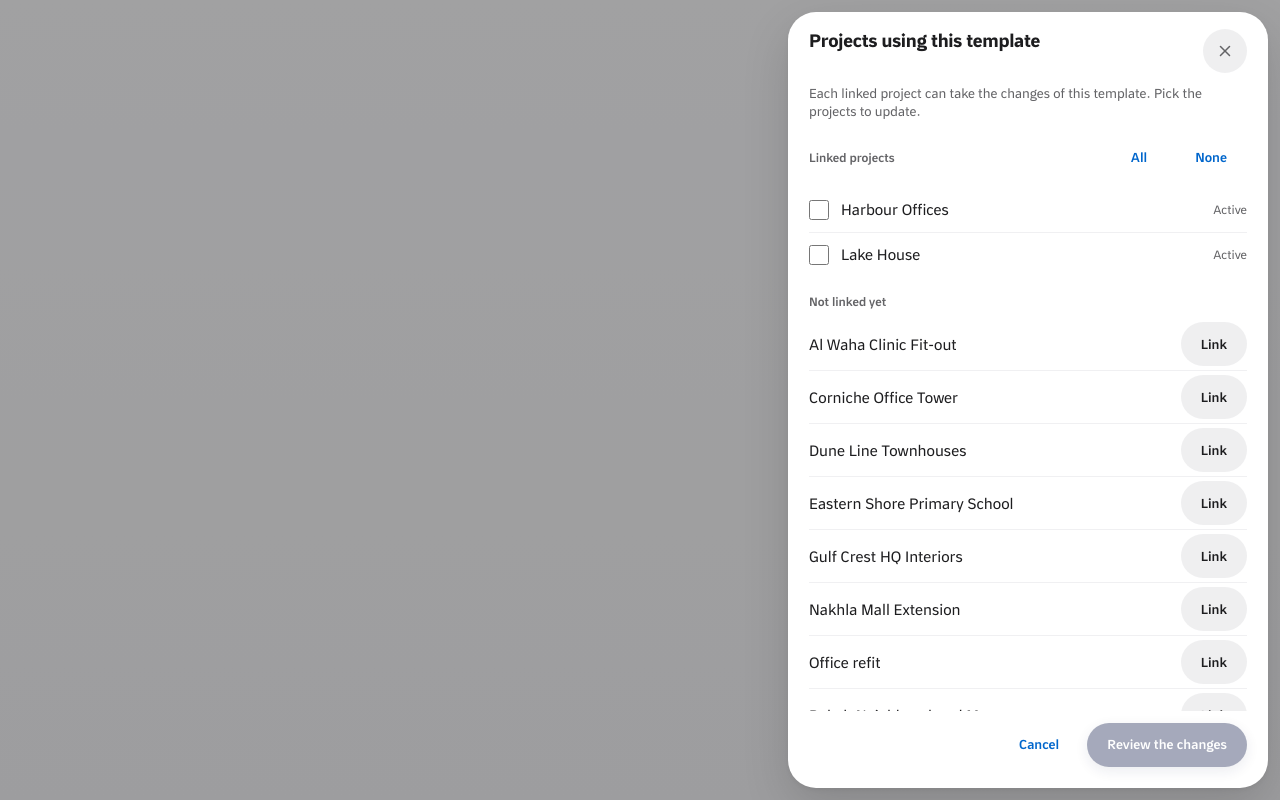
Test: Projects using this template › ticks every linked project with All, clears them with None, and needs one pick before the review
Expected: the element "Linked projects" is shown, x1=809 y1=136 x2=1247 y2=277
Expected: the button "Review the changes" is disabled, x1=1087 y1=723 x2=1247 y2=767
Click the button "All": click(1139, 158) x1=1111 y1=136 x2=1167 y2=180
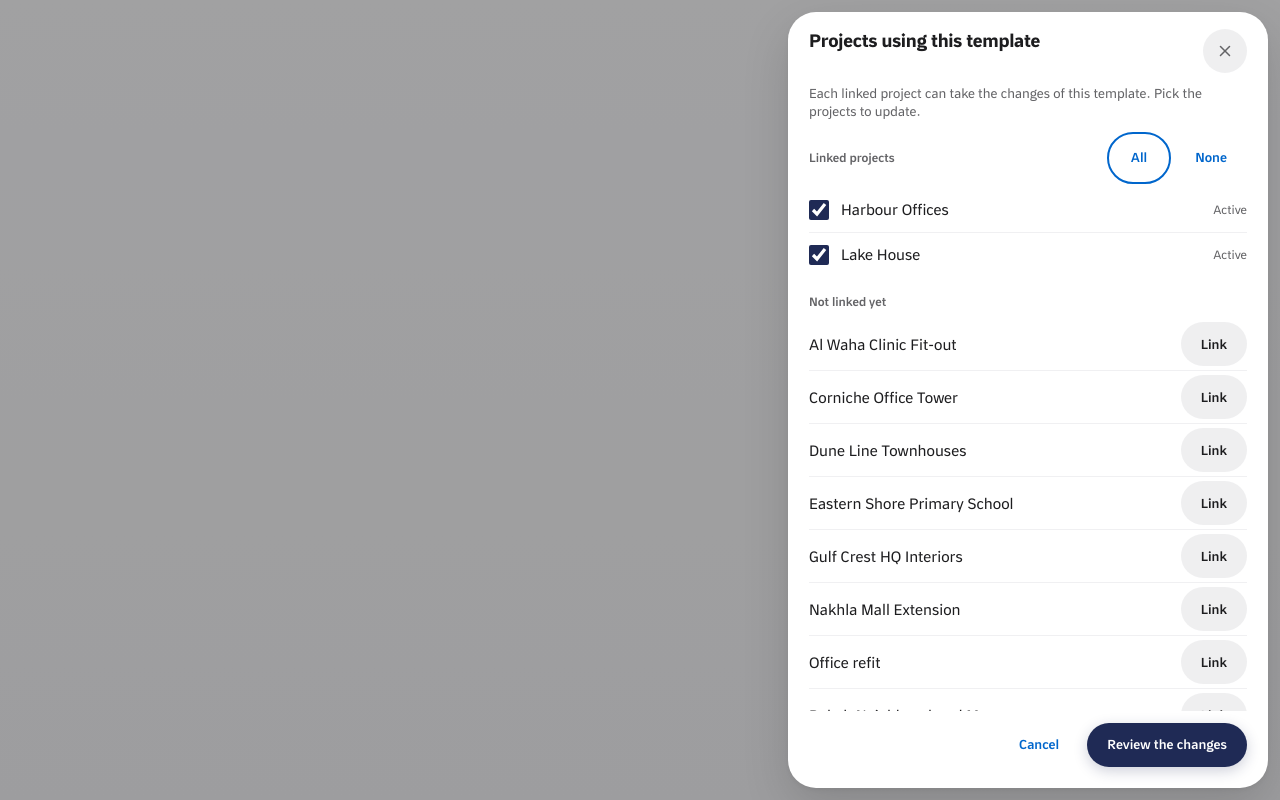
Expected: the checkbox labelled "Harbour Offices Active" is checked, x1=809 y1=200 x2=829 y2=220
Expected: the checkbox labelled "Lake House Active" is checked, x1=809 y1=245 x2=829 y2=265
Expected: the button "Review the changes" is enabled, x1=1087 y1=723 x2=1247 y2=767
Click the button "None": click(1211, 158) x1=1175 y1=136 x2=1247 y2=180
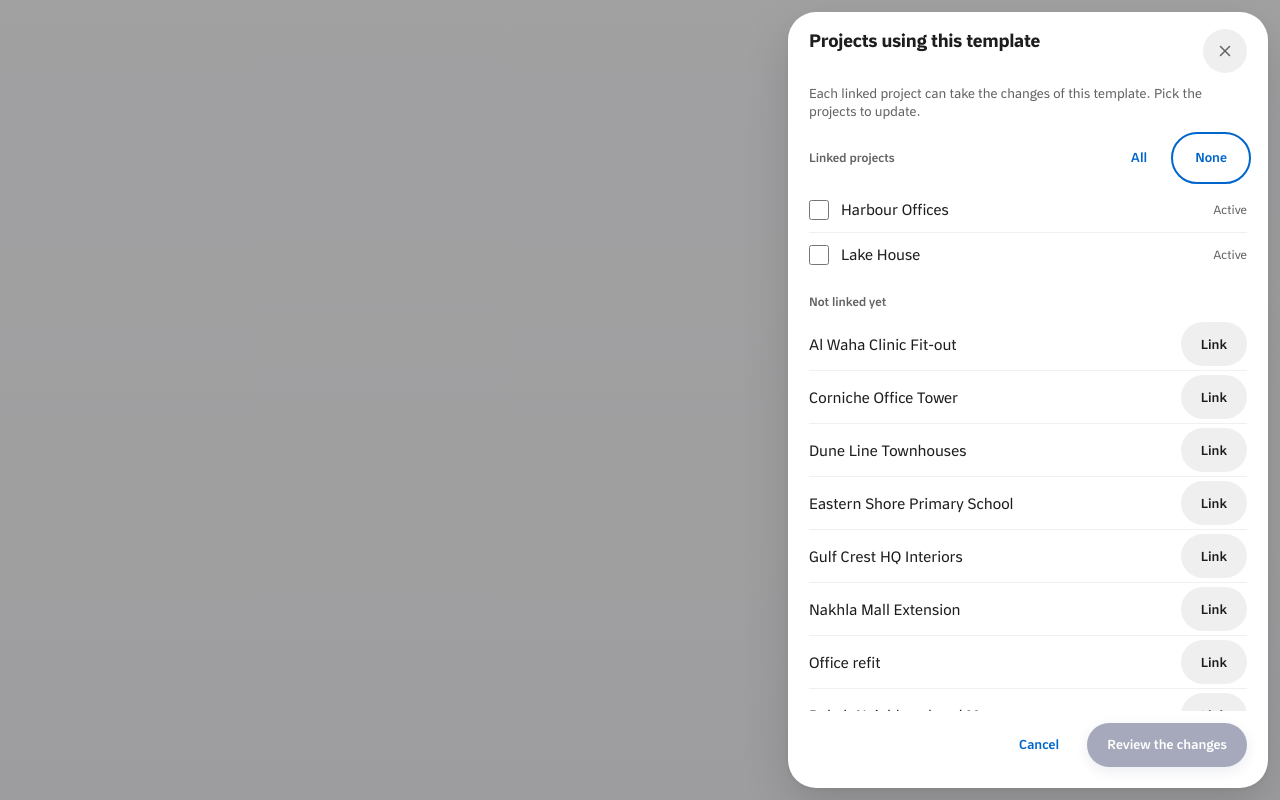
Expected: the checkbox labelled "Lake House Active" is not checked, x1=809 y1=245 x2=829 y2=265
Expected: the button "Review the changes" is disabled, x1=1087 y1=723 x2=1247 y2=767
